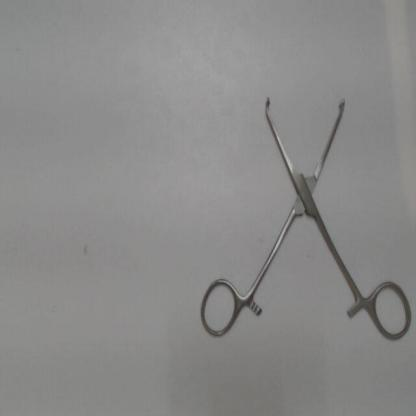Allis Tissue Forceps: (193, 87, 415, 348)
